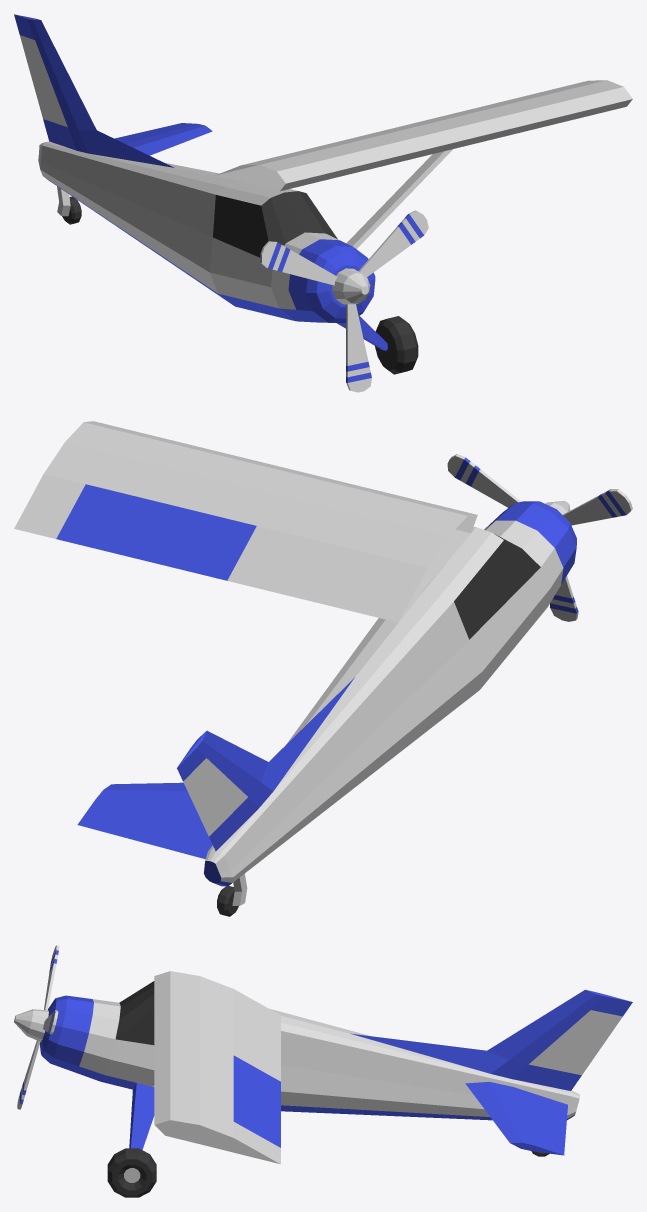
The model's file is airplane-rec.glb.
The picture shows the model from 3 angles, top to bottom: view 1: azimuth 30°, elevation 25°; view 2: azimuth 150°, elevation 25°; view 3: azimuth 270°, elevation 25°; orthographic projection. The views are drawn at different scales.
Visible parts, largest first — view 1: Plane, Plane.035, Circle.001, Circle.004, Plane.003, Plane.002, Circle.002, Plane.001, Circle.008, Circle.007; view 2: Plane.035, Plane, Circle.001, Circle.002, Plane.001, Plane.002, Plane.003; view 3: Plane, Plane.035, Circle.001, Circle.002, Circle.004, Circle.003, Circle.007, Plane.003, Plane.001.
Boxes of the visible parts, x1,y1,x2,y2 form: Plane: [38, 141, 375, 323]; Plane.035: [214, 80, 632, 191]; Circle.001: [14, 14, 174, 167]; Circle.004: [375, 316, 418, 374]; Plane.003: [346, 304, 371, 392]; Plane.002: [358, 210, 428, 277]; Circle.002: [114, 123, 212, 155]; Plane.001: [260, 241, 337, 285]; Circle.008: [346, 149, 452, 248]; Circle.007: [332, 268, 370, 304]; Plane.035: [14, 421, 477, 622]; Plane: [204, 501, 576, 886]; Circle.001: [177, 677, 354, 851]; Circle.002: [77, 782, 212, 859]; Plane.001: [563, 489, 632, 525]; Plane.002: [447, 454, 521, 507]; Plane.003: [550, 576, 578, 621]; Plane: [40, 981, 579, 1120]; Plane.035: [154, 971, 280, 1164]; Circle.001: [350, 989, 632, 1090]; Circle.002: [465, 1081, 567, 1155]; Circle.004: [107, 1148, 156, 1197]; Circle.003: [129, 1083, 154, 1149]; Circle.007: [14, 1009, 48, 1041]; Plane.003: [17, 1040, 40, 1109]; Plane.001: [44, 945, 59, 1010].
Bounding box in the file's own units: 5.09 × 2.35 × 7.23.
